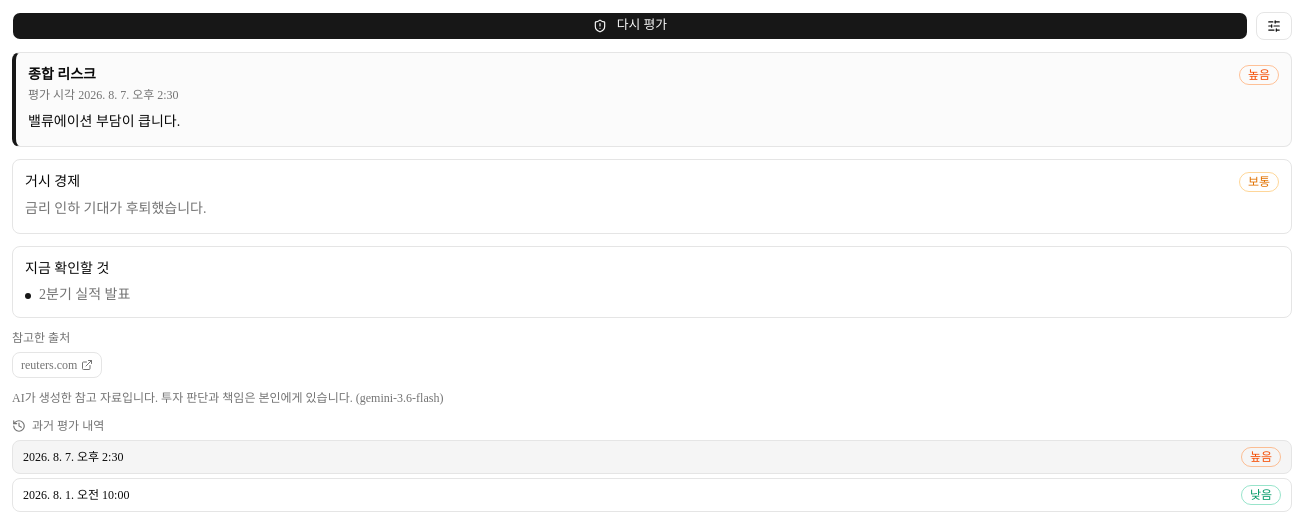
RiskPanel › 과거 평가를 골라 그 시점 내용을 다시 본다
The image size is (1304, 529).
Check: the heading "과거 평가 내역" is shown, box [12,418,104,432]
Click the 4th button.
click(76, 494)  # box [12,478,1292,512]
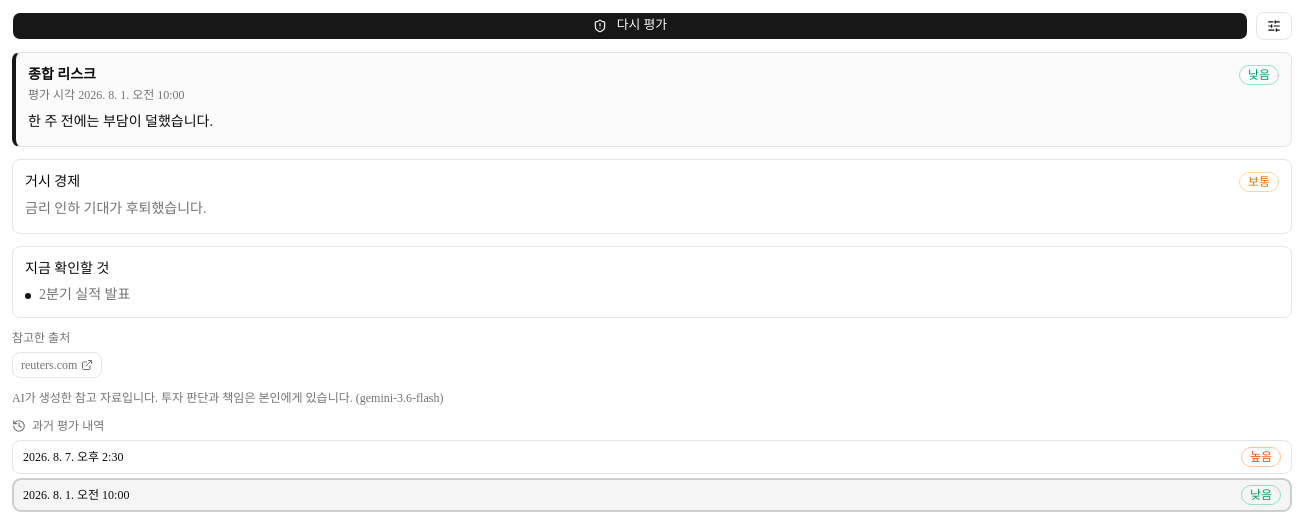
Check: the text "한 주 전에는 부담이 덜했습니다." is shown, box [28,114,213,129]
Check: the text "밸류에이션 부담이 큽니다." is gone
